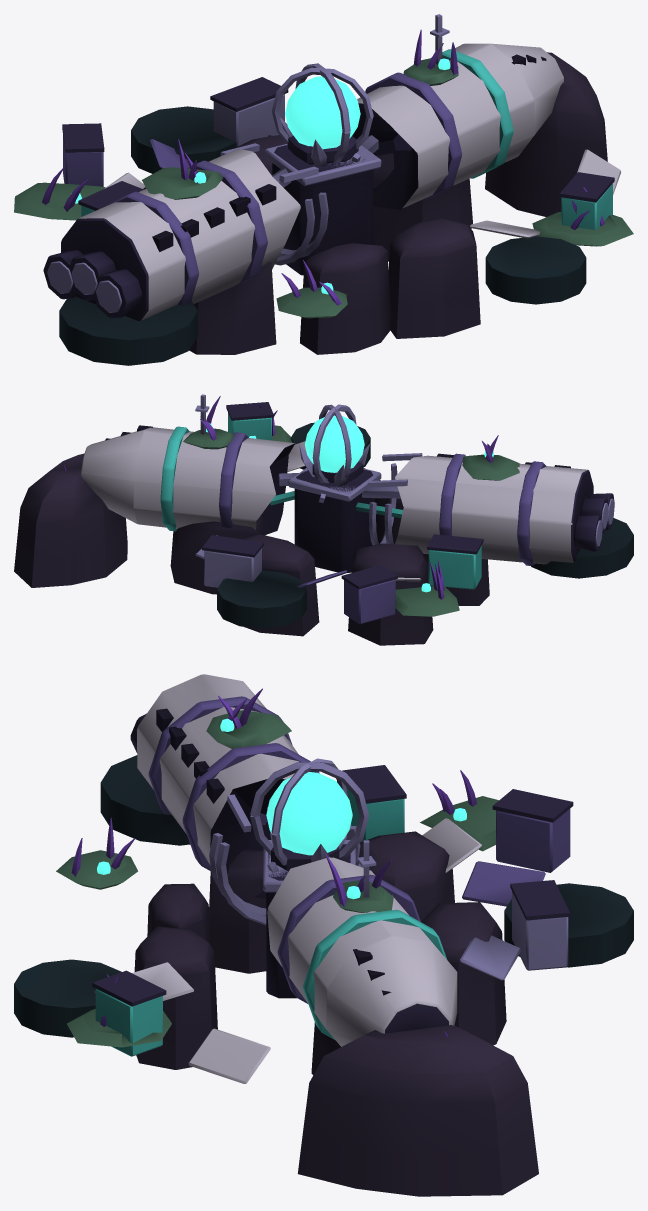
Rendered from crash-site-nacre.glb.
3 renders of one model, top to bottom at view 1: azimuth 30°, elevation 25°; view 2: azimuth 150°, elevation 25°; view 3: azimuth 270°, elevation 25°, orthographic. The views are drawn at different scales.
Parts seen in each view (by area): view 1: site_crash_site_nacre_body, site_crash_site_nacre_core, site_crash_site_nacre_ruin; view 2: site_crash_site_nacre_body, site_crash_site_nacre_core, site_crash_site_nacre_ruin; view 3: site_crash_site_nacre_body, site_crash_site_nacre_core, site_crash_site_nacre_ruin.
Part boxes in pixels (x1,y1,x2,y2): site_crash_site_nacre_body: [14, 14, 633, 365]; site_crash_site_nacre_core: [272, 63, 373, 162]; site_crash_site_nacre_ruin: [280, 117, 360, 166]; site_crash_site_nacre_body: [14, 394, 633, 645]; site_crash_site_nacre_core: [305, 404, 364, 483]; site_crash_site_nacre_ruin: [299, 443, 370, 502]; site_crash_site_nacre_body: [14, 674, 633, 1196]; site_crash_site_nacre_core: [250, 758, 368, 865]; site_crash_site_nacre_ruin: [267, 807, 363, 872].
Bounding box in the file's own units: 5.8 × 1.95 × 4.3.
